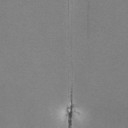slag inclusion: (68, 87, 73, 128)
